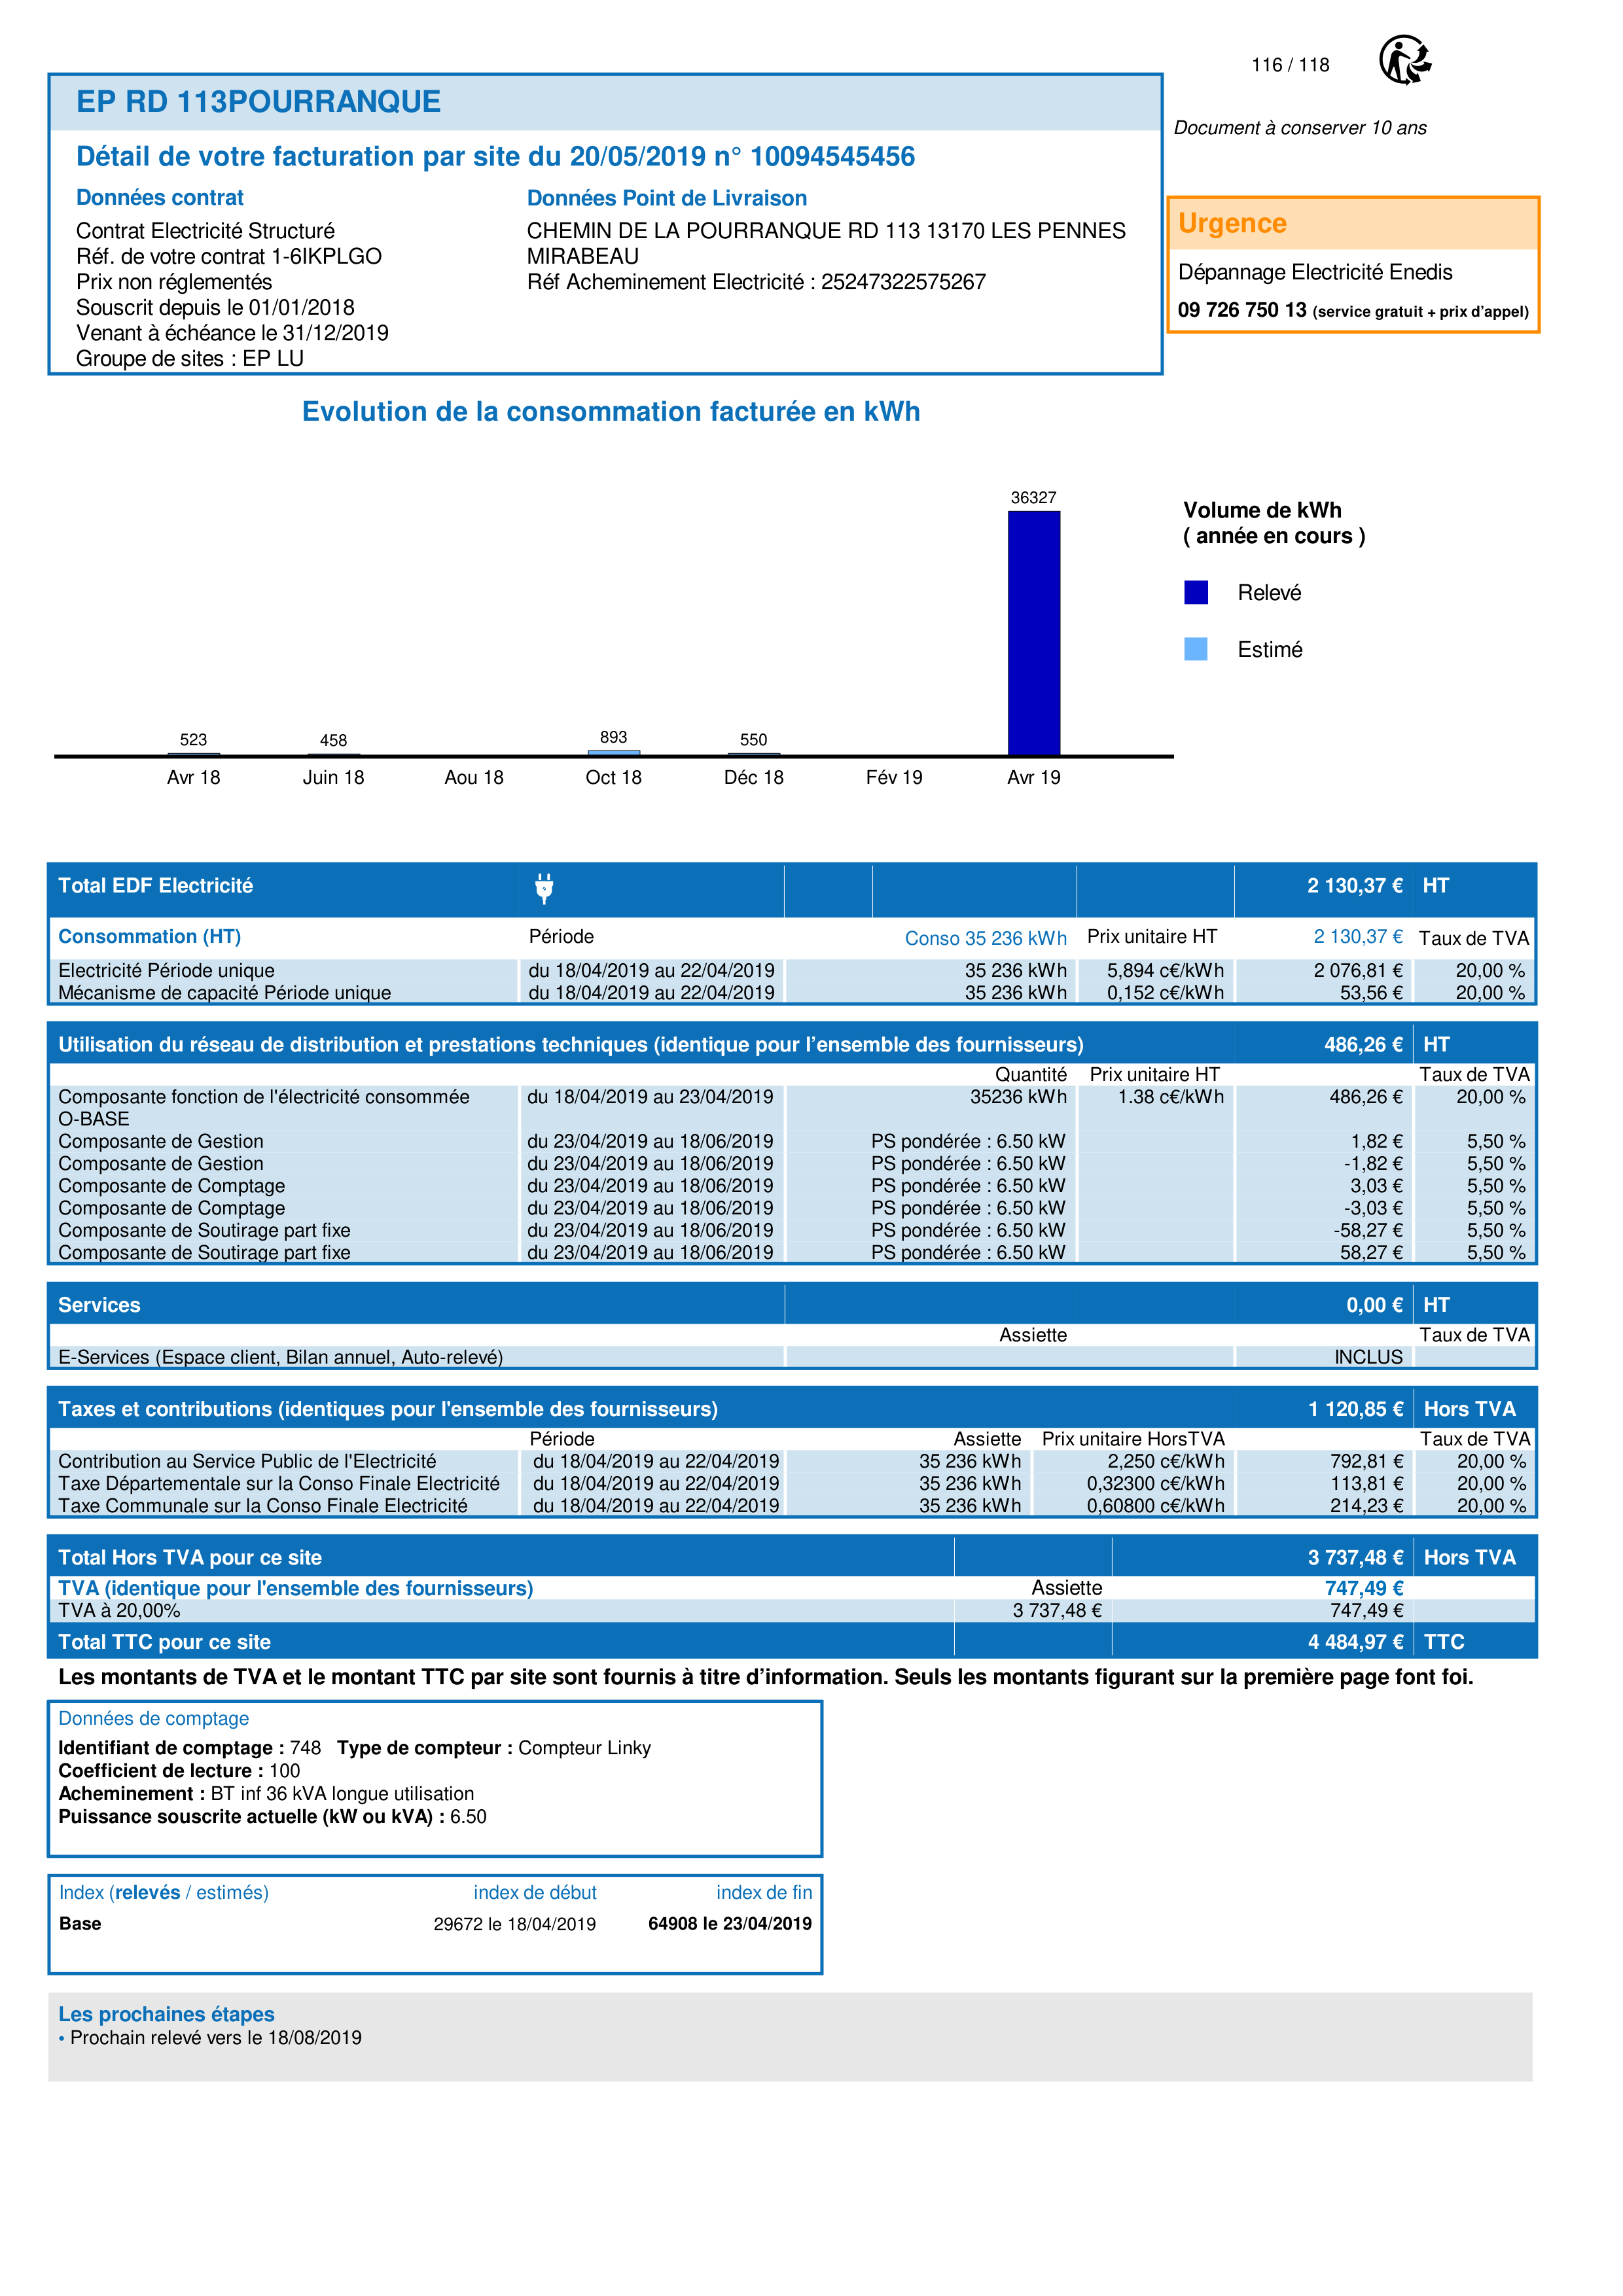area: (46, 1878, 821, 1973)
type_indicator: (47, 1878, 287, 1911)
